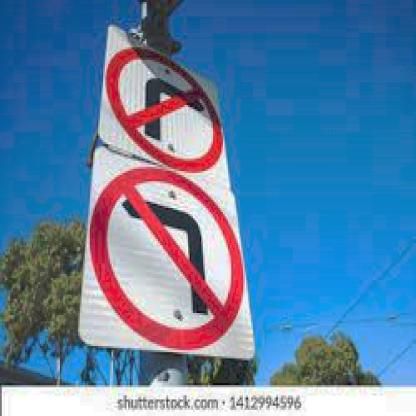No right turn: (110, 32, 226, 166)
